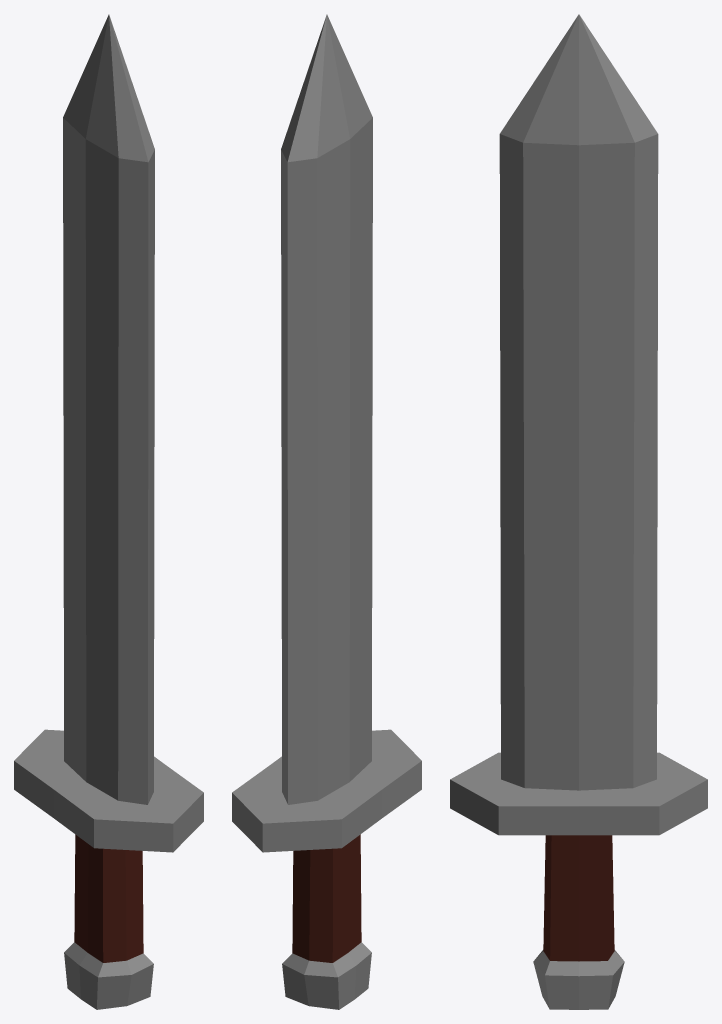
File: Sword_1.fbx
3 views of the same model, side by side, from view 1: azimuth 30°, elevation 25°; view 2: azimuth 150°, elevation 25°; view 3: azimuth 270°, elevation 25° (orthographic).
Parts seen in each view (by area): view 1: Sword; view 2: Sword; view 3: Sword.
Part boxes in pixels (<box>): Sword: <box>14,14,203,1009</box>; Sword: <box>232,14,421,1009</box>; Sword: <box>450,14,707,1009</box>.
Bounding box in the file's own units: 0.1089 × 0.9267 × 0.2203.
